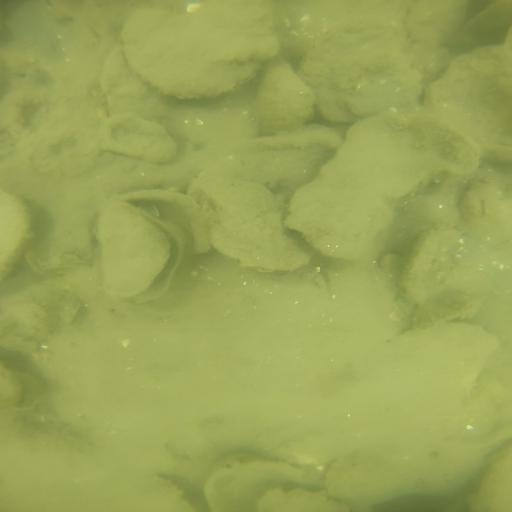Oyster-Closed: (290, 117, 464, 264), (127, 6, 279, 99), (191, 177, 311, 271), (304, 28, 422, 120), (327, 450, 492, 508), (205, 463, 323, 512), (10, 124, 106, 178), (406, 226, 464, 304), (99, 116, 183, 163), (258, 62, 313, 131), (408, 1, 475, 46), (1, 192, 27, 277), (258, 489, 349, 512), (475, 461, 512, 512), (2, 368, 22, 405)
Oyster-Open: (98, 204, 185, 304)
